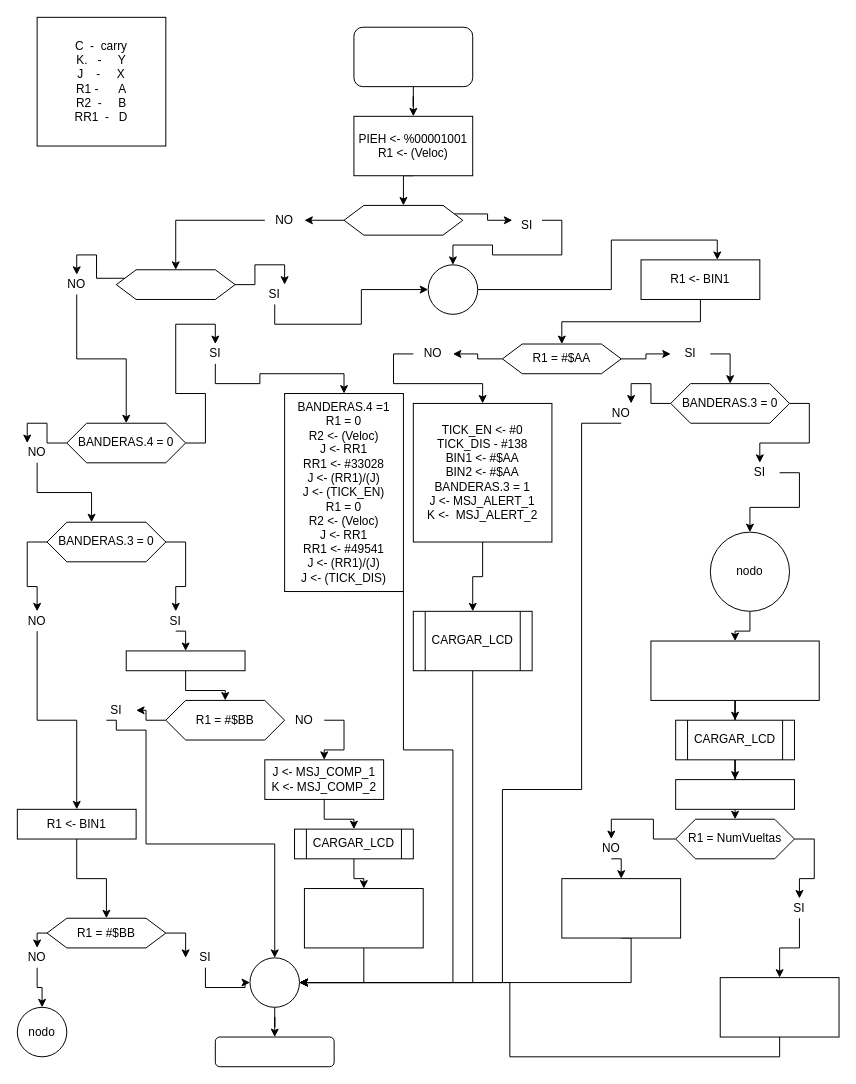
Some shapes in this 856 by 1084 pixel diagram are drawn without their labels. Here are the shapes that lost their labels. From the top down, the box of each, then its label:
(353, 26, 473, 87): PANT_CTRL
(343, 204, 463, 235): R1 = V_MIN
(115, 269, 235, 299): R1 = V_MAX
(125, 650, 245, 671): R1 <- (BIN1)
(650, 640, 819, 700): BIN1 <- #$BB BIN2 <- #$BB J <- MSJ_RUNMETER K <- MSJ_INICIAL
(675, 779, 794, 809): R1 <- Vueltas
(303, 888, 423, 948): BIN1 <- Vueltas BIN2 <- Veloc
(561, 878, 681, 938): PIEH <- %00001001 PIEH <- #$08
(719, 977, 839, 1037): BANDERAS.4 =0 Veloc = 0
(214, 1036, 334, 1067): RETURN
